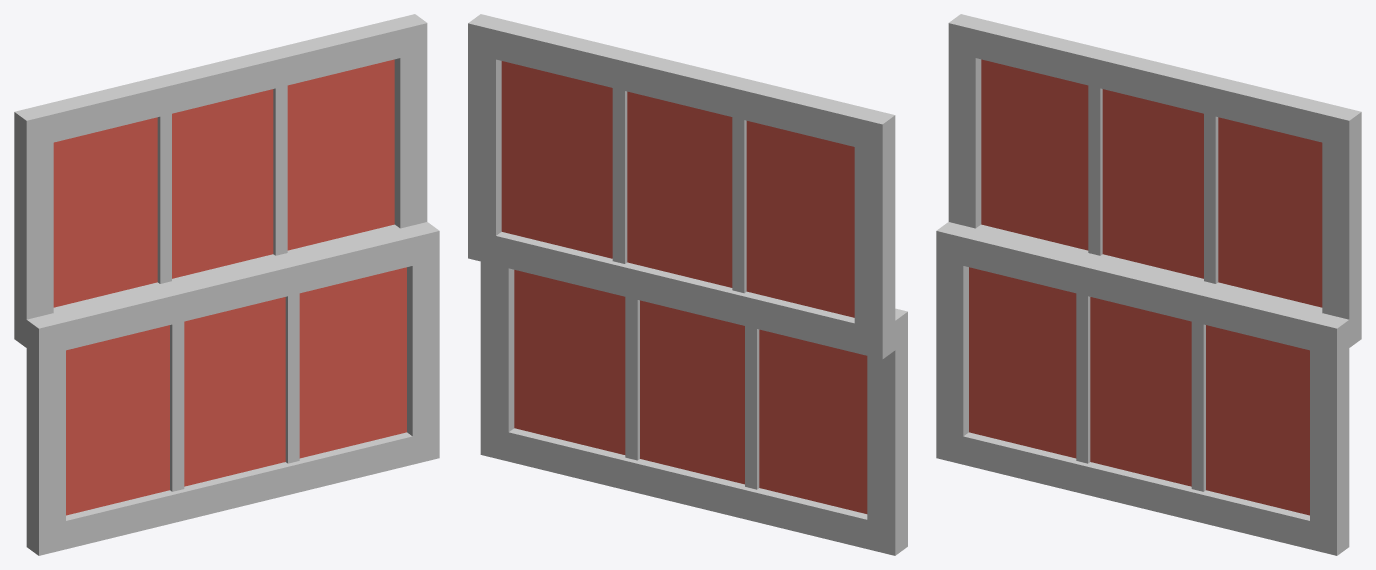
Rendered from Mesh_WindowSmall_05.fbx.
The picture shows the model from 3 angles, left to right: view 1: azimuth 30°, elevation 25°; view 2: azimuth 150°, elevation 25°; view 3: azimuth 330°, elevation 25°; orthographic projection. The views are drawn at different scales.
Parts seen in each view (by area): view 1: Mesh_WindowSmall_05; view 2: Mesh_WindowSmall_05; view 3: Mesh_WindowSmall_05.
Part boxes in pixels (x1=…): Mesh_WindowSmall_05: x1=14, y1=14, x2=439, y2=555; Mesh_WindowSmall_05: x1=468, y1=14, x2=907, y2=555; Mesh_WindowSmall_05: x1=936, y1=14, x2=1361, y2=555.
Bounding box in the file's own units: 0.8383 × 0.8517 × 0.089.
